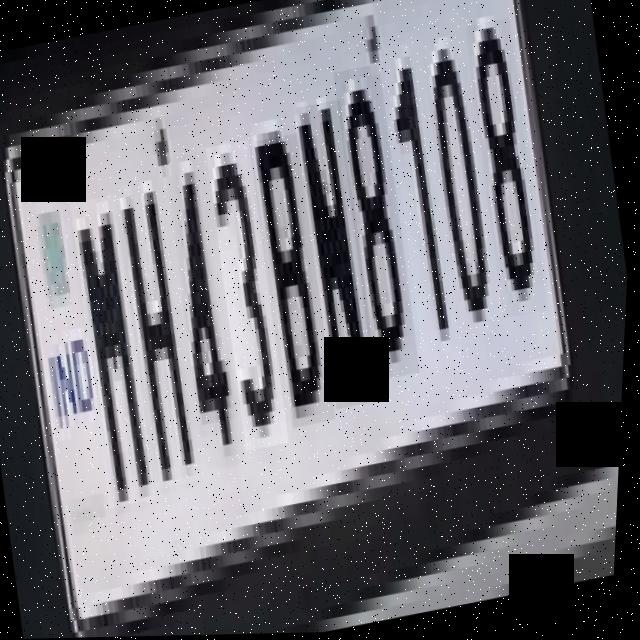0: (415, 38, 520, 328)
1: (370, 38, 478, 372)
3: (197, 139, 304, 453)
4: (155, 151, 259, 471)
8: (323, 64, 434, 384), (455, 19, 561, 321)
B: (246, 133, 349, 429)
H: (109, 189, 215, 490)
M: (61, 193, 171, 509)
N: (286, 100, 394, 411)
